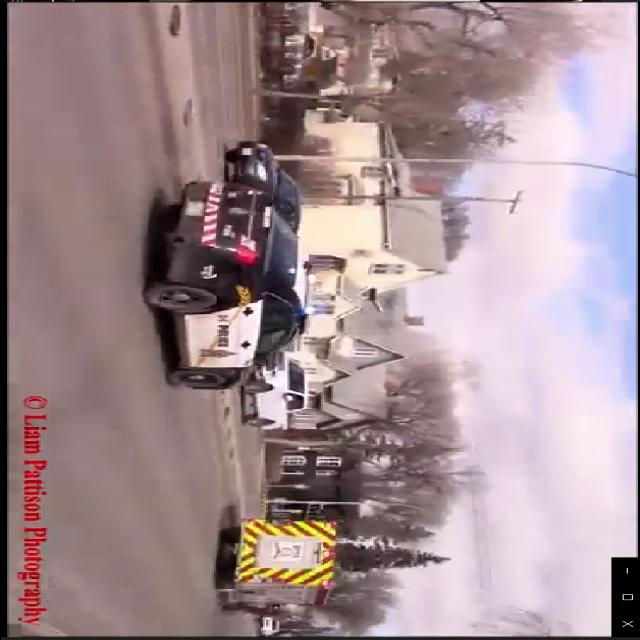emergency: (137, 181, 324, 393), (208, 518, 352, 614)
